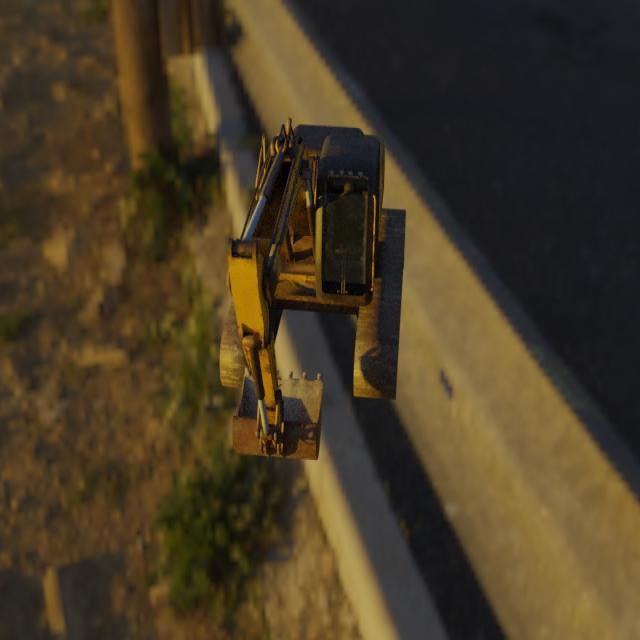excavator: (219, 116, 406, 460)
